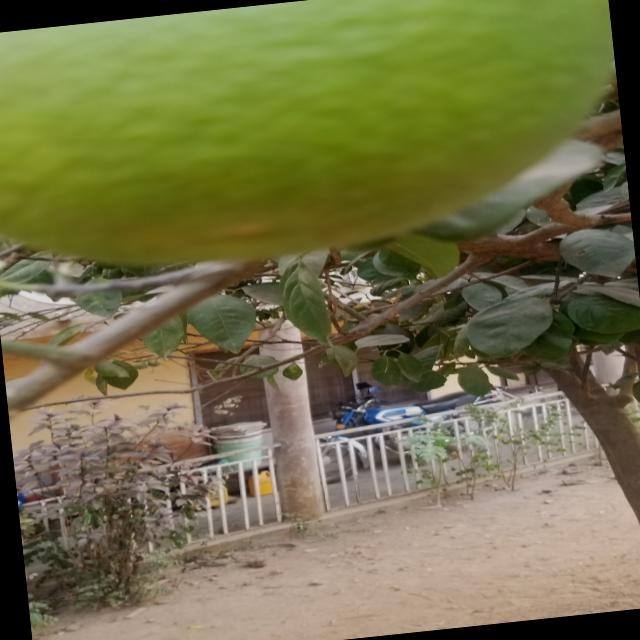agrume: (0, 0, 632, 292)
